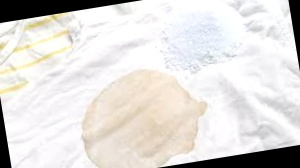coffee: (72, 61, 216, 168)
